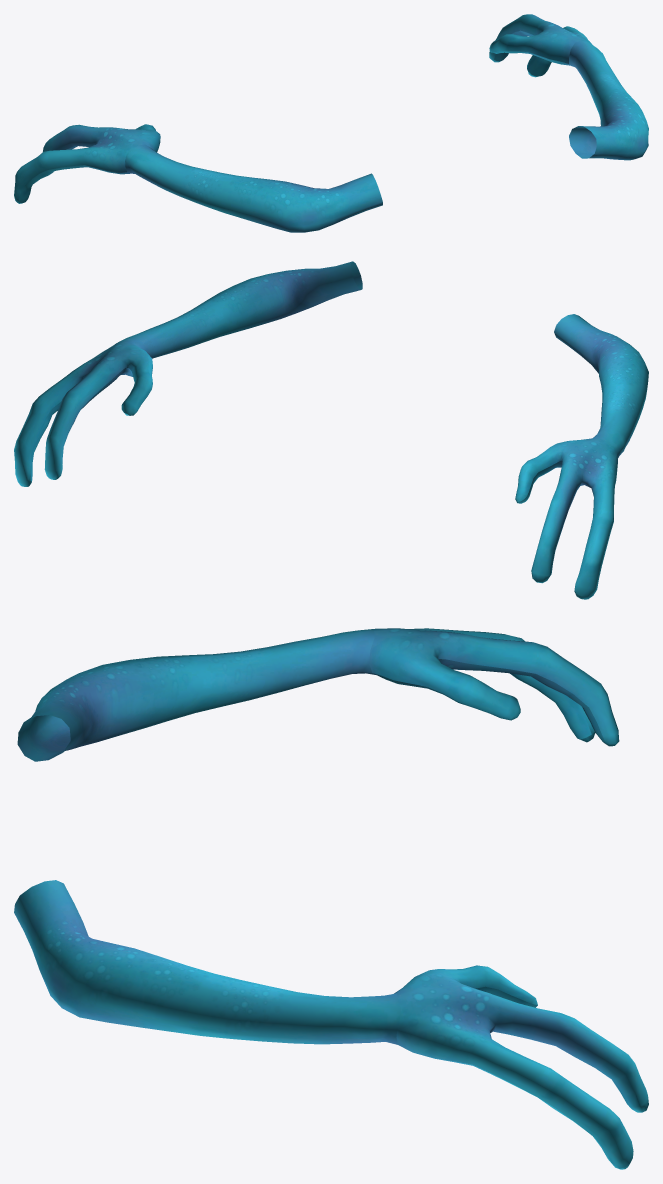
File: hand.obj
3 renders of one model, top to bottom at view 1: azimuth 30°, elevation 25°; view 2: azimuth 150°, elevation 25°; view 3: azimuth 270°, elevation 25°, orthographic. The views are drawn at different scales.
Parts seen in each view (by area): view 1: node_id41_1, node_id41; view 2: node_id41, node_id41_1; view 3: node_id41, node_id41_1.
Boxes of the visible parts, bbox=[...] form: node_id41_1: bbox=[14, 124, 382, 232]; node_id41: bbox=[489, 14, 648, 160]; node_id41: bbox=[14, 261, 362, 486]; node_id41_1: bbox=[515, 314, 648, 599]; node_id41: bbox=[14, 880, 648, 1169]; node_id41_1: bbox=[17, 628, 619, 761].
Size of the model in its own units: 81.28 by 16.48 by 50.79.
